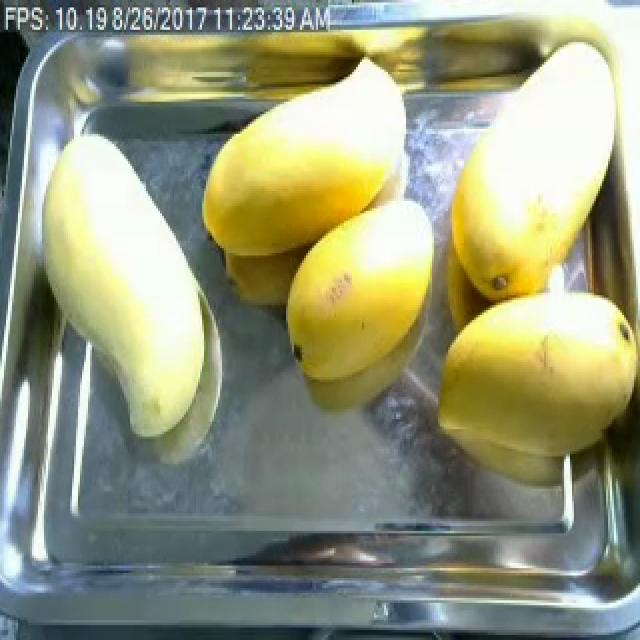fruit: (28, 114, 230, 454), (438, 35, 620, 312), (422, 283, 640, 471), (188, 102, 406, 275), (270, 193, 446, 400)
